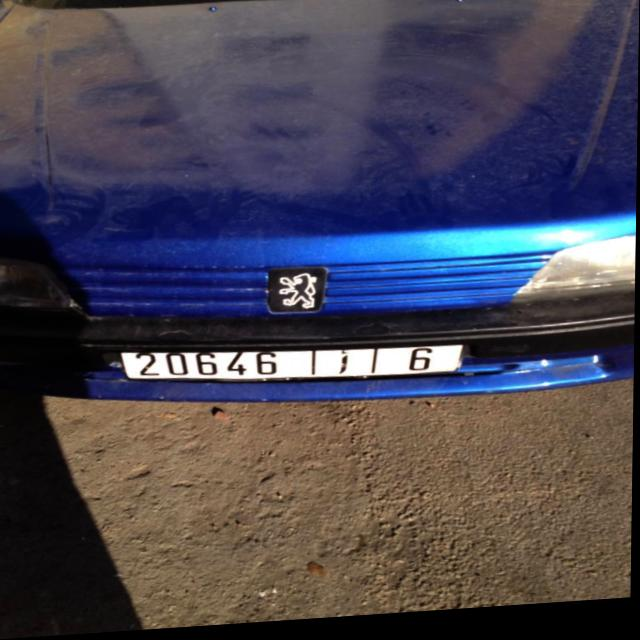License-Plate: (122, 351, 464, 385)
